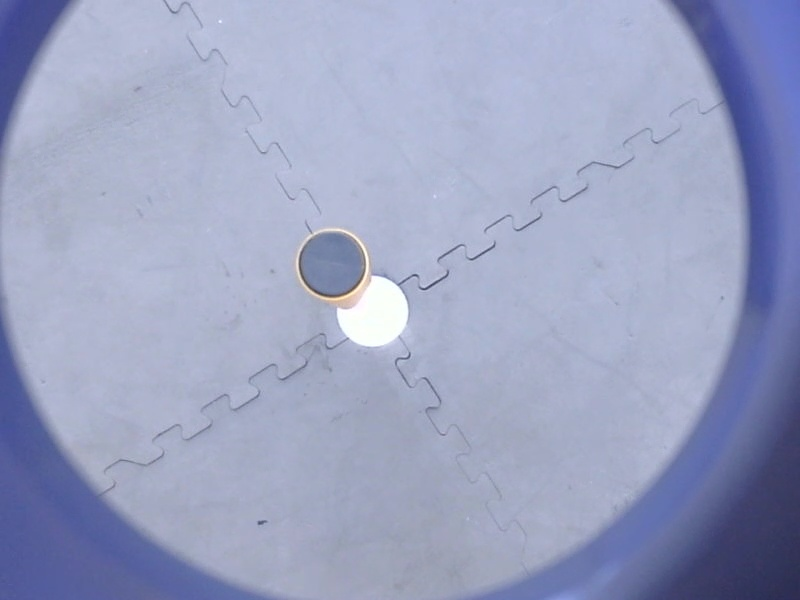tip: (287, 222, 374, 307)
